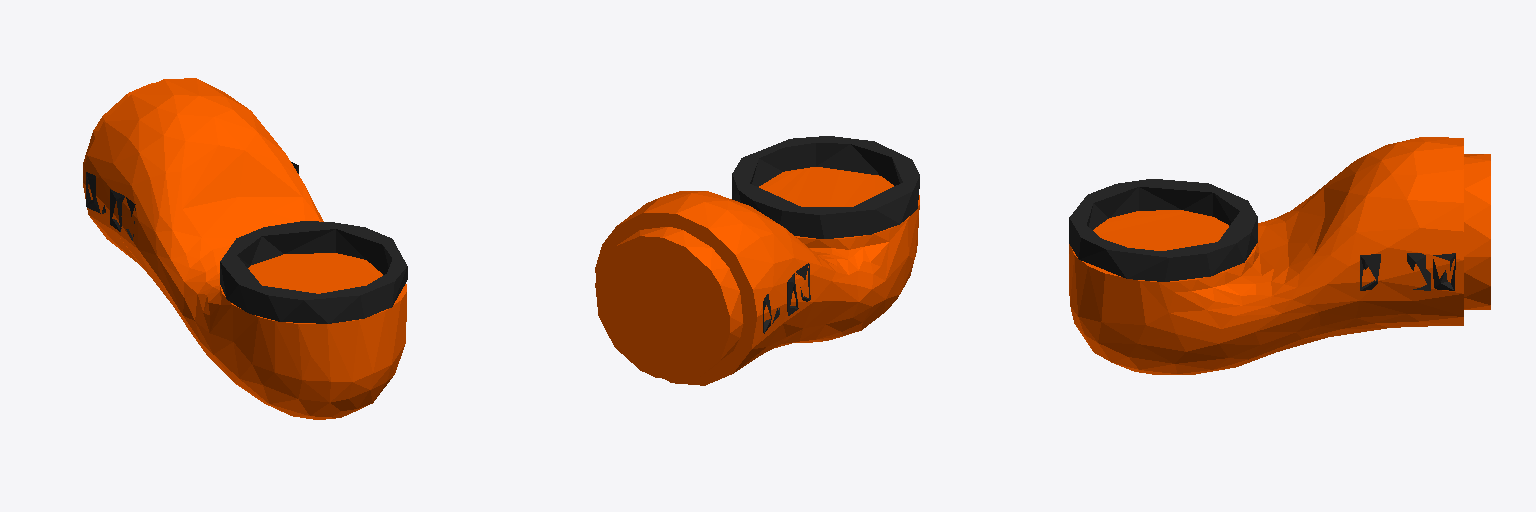
Rendered from kuka3.obj.
3 views of the same model, side by side, from view 1: azimuth 30°, elevation 25°; view 2: azimuth 150°, elevation 25°; view 3: azimuth 270°, elevation 25° (orthographic).
Parts seen in each view (by area): view 1: unnamed_object1; view 2: unnamed_object1; view 3: unnamed_object1.
Boxes of the visible parts, x1=… form: unnamed_object1: x1=83, y1=78, x2=407, y2=419; unnamed_object1: x1=595, y1=136, x2=919, y2=385; unnamed_object1: x1=1069, y1=137, x2=1490, y2=374.
Bounding box in the file's own units: 0.122 × 0.1542 × 0.2685.